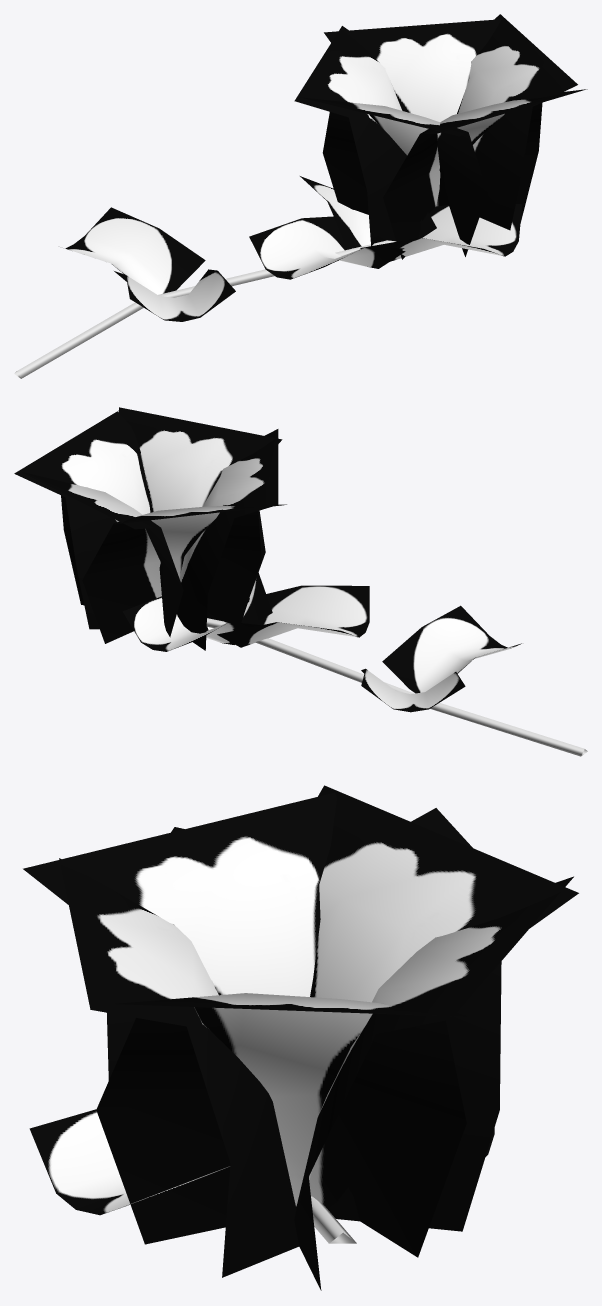
File: florecillas 1.fbx
3 renders of one model, top to bottom at view 1: azimuth 30°, elevation 25°; view 2: azimuth 150°, elevation 25°; view 3: azimuth 270°, elevation 25°, orthographic. The views are drawn at different scales.
Parts seen in each view (by area): view 1: Plane041 (×2), Plane035, Plane036, Plane034, Plane040, Plane038, Plane039, Plane033, Cylinder051, Plane032; view 2: Plane041 (×2), Plane035, Plane036, Plane038, Plane033, Plane034, Cylinder051, Plane032, Plane040, Plane039; view 3: Plane041 (×2), Plane035, Plane036, Plane034, Plane039, Cylinder051, Plane040.
Boxes of the visible parts, <box> form: Plane041 (×2): <box>294,26,587,259</box>; Plane035: <box>457,14,577,230</box>; Plane036: <box>300,97,487,256</box>; Plane034: <box>324,19,501,121</box>; Plane040: <box>65,207,205,294</box>; Plane038: <box>249,216,405,279</box>; Plane039: <box>360,204,522,261</box>; Plane033: <box>114,269,235,321</box>; Cylinder051: <box>14,240,396,378</box>; Plane032: <box>300,176,436,248</box>; Plane041 (×2): <box>82,407,286,643</box>; Plane035: <box>14,411,150,629</box>; Plane036: <box>177,429,278,650</box>; Plane038: <box>217,585,369,647</box>; Plane033: <box>382,605,521,693</box>; Plane034: <box>22,472,183,637</box>; Cylinder051: <box>206,618,587,756</box>; Plane032: <box>122,596,260,651</box>; Plane040: <box>361,668,465,712</box>; Plane039: <box>207,573,272,629</box>; Plane041 (×2): <box>59,785,578,1277</box>; Plane035: <box>96,993,470,1257</box>; Plane036: <box>23,792,336,1080</box>; Plane034: <box>294,876,573,1290</box>; Plane039: <box>29,1109,230,1215</box>; Cylinder051: <box>296,1196,356,1243</box>; Plane040: <box>411,808,472,847</box>.
Size of the model in its own units: 43.7 by 20.21 by 15.21.
